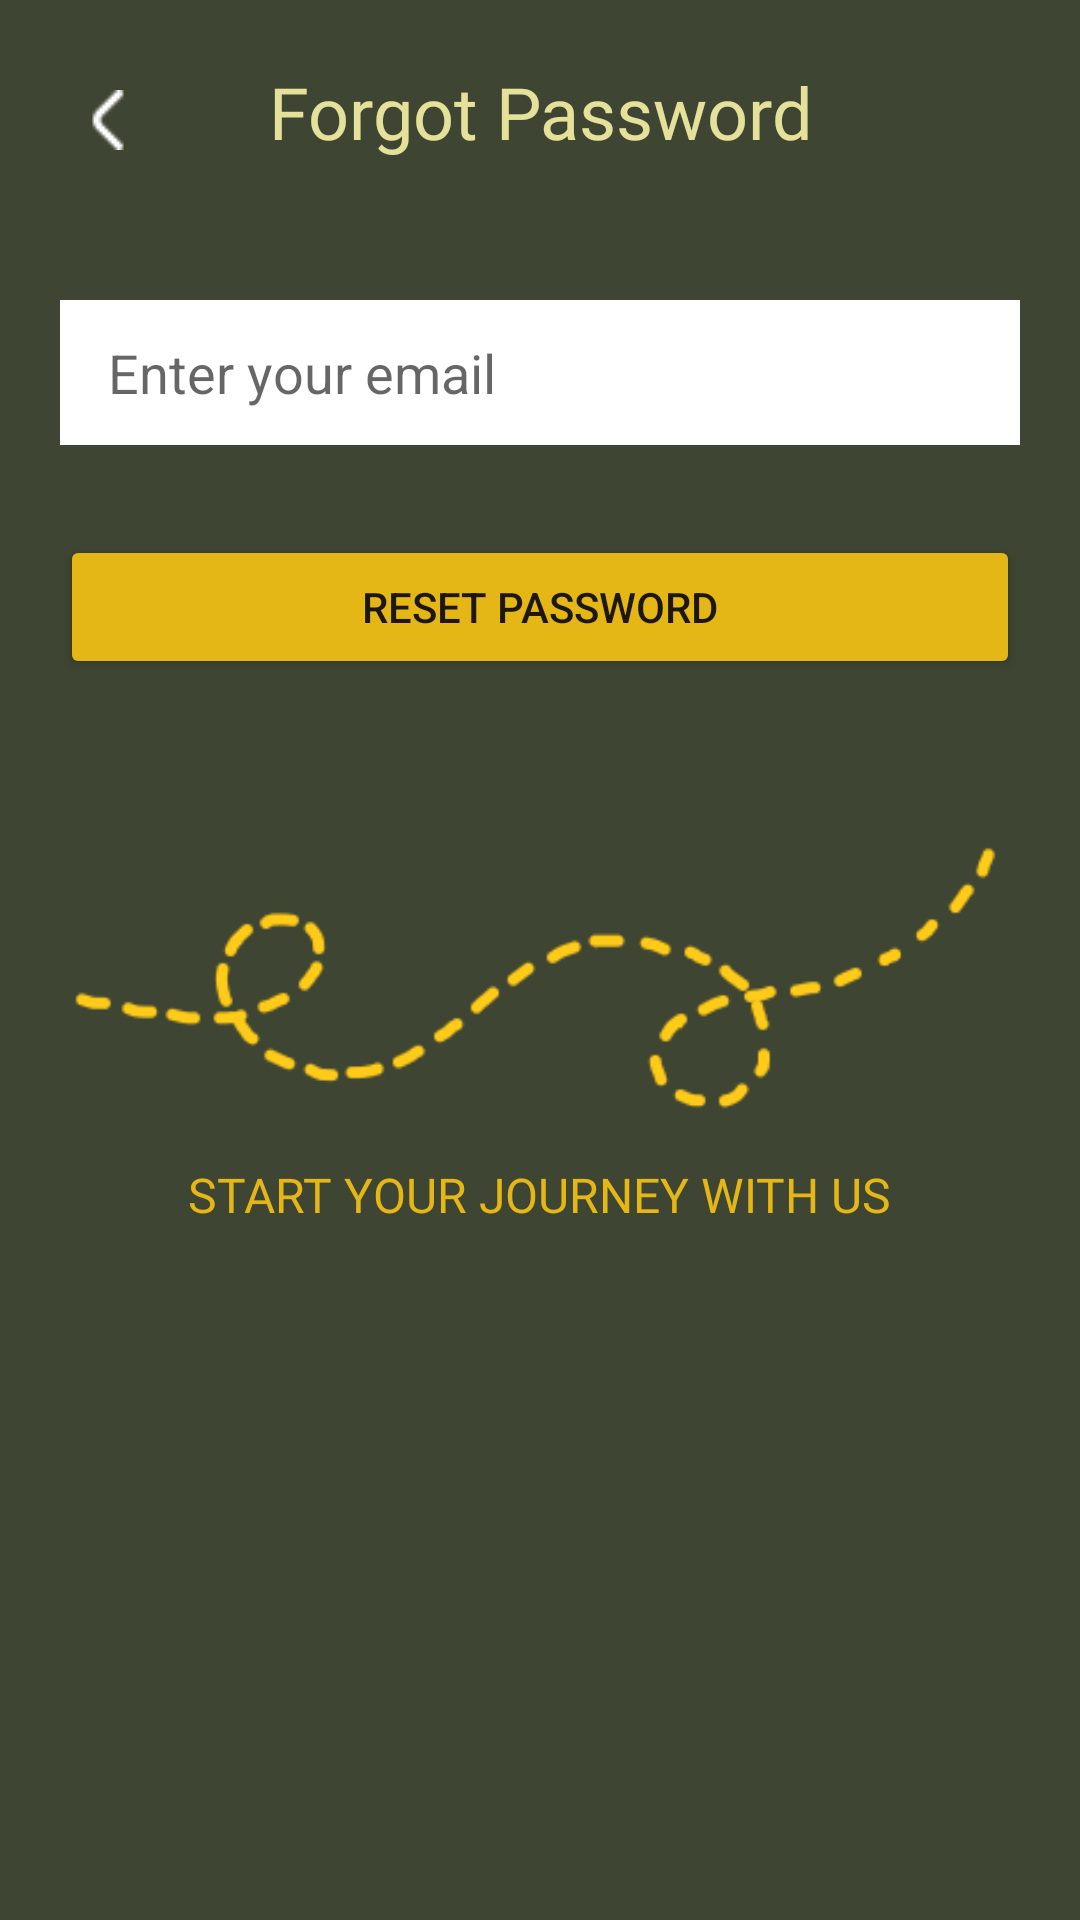

Where to tap for icons on this 1080px×1920px app screen, as (x=x, y=y):
angle left: (x=108, y=120)
